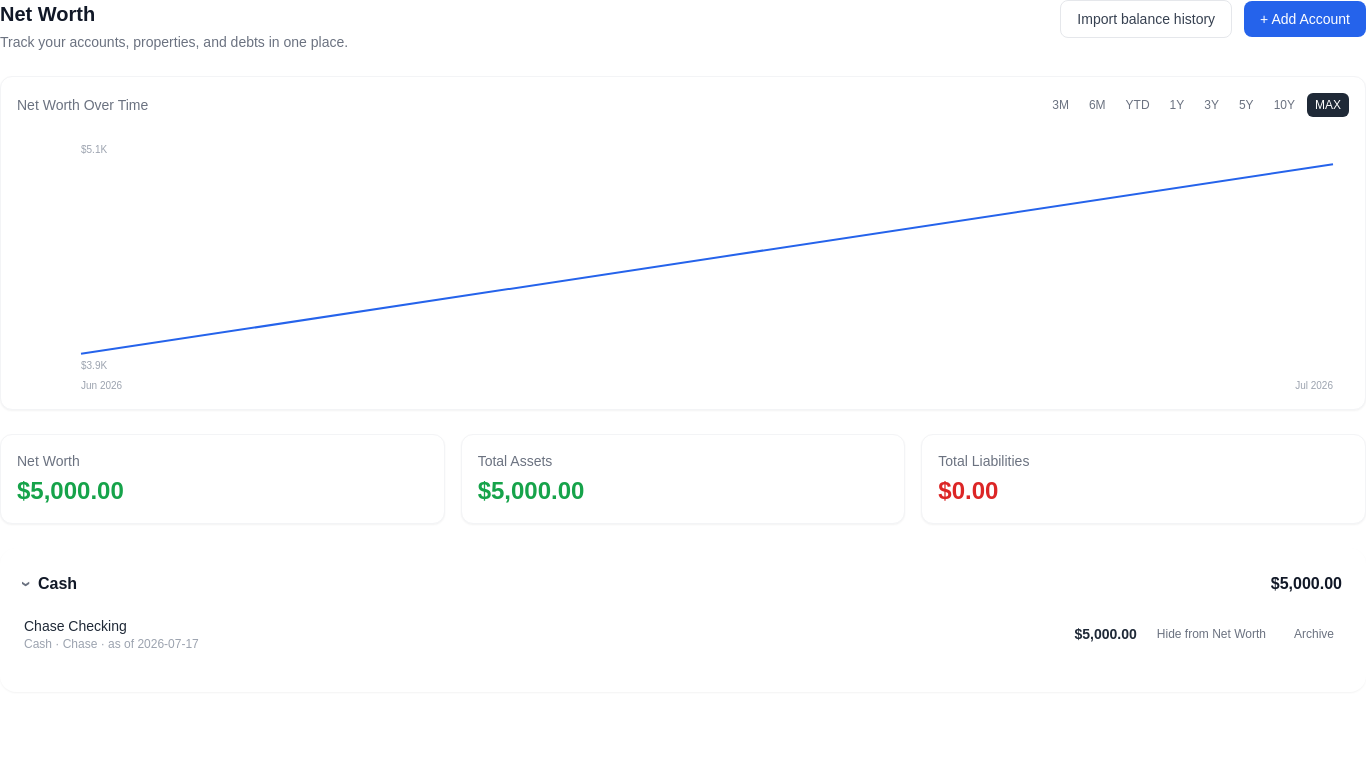
Test case: NetWorthClient — refresh after a balance edit › does not refresh when the save fails
The image size is (1366, 768).
Step 1. Click the text "Chase Checking" → (75, 626), box [24,618,127,634]
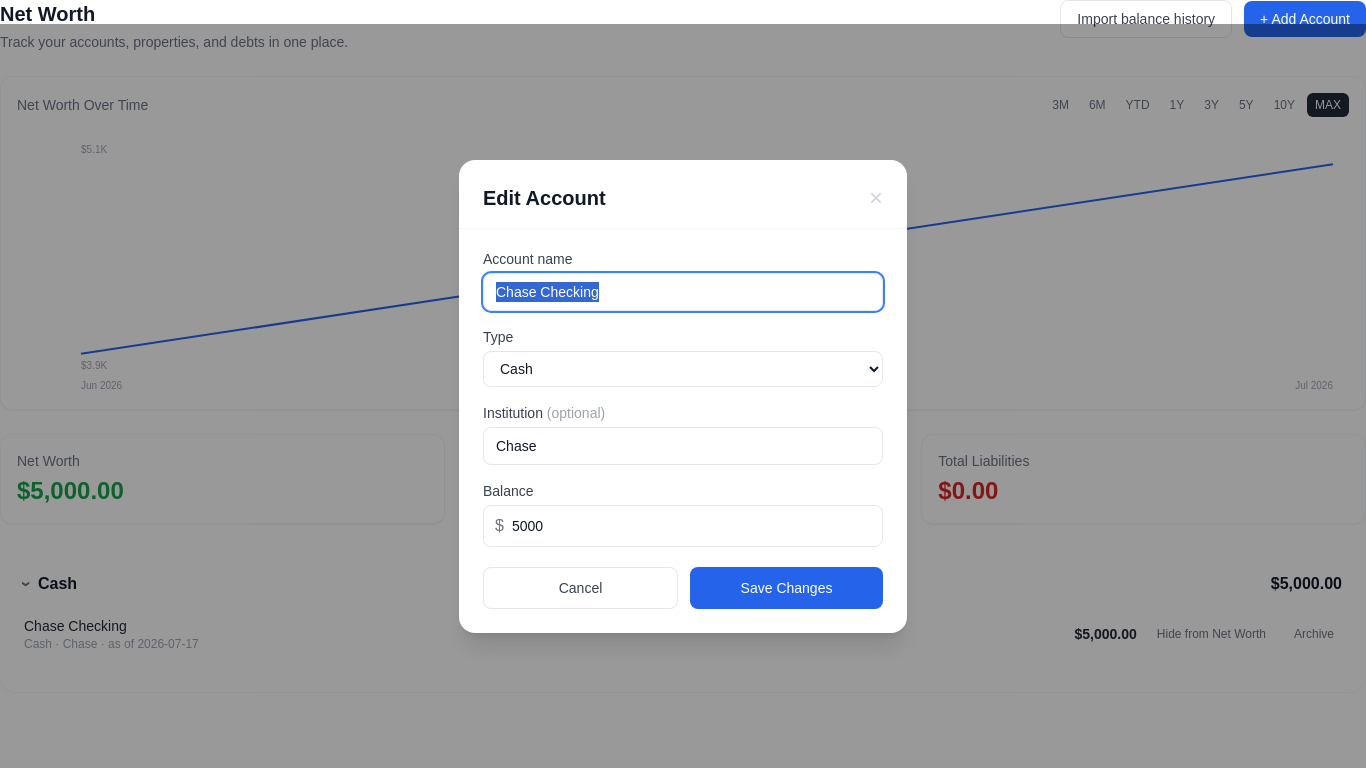
Step 2. Click the button "Save Changes" → (786, 588), box [690,566,883,608]
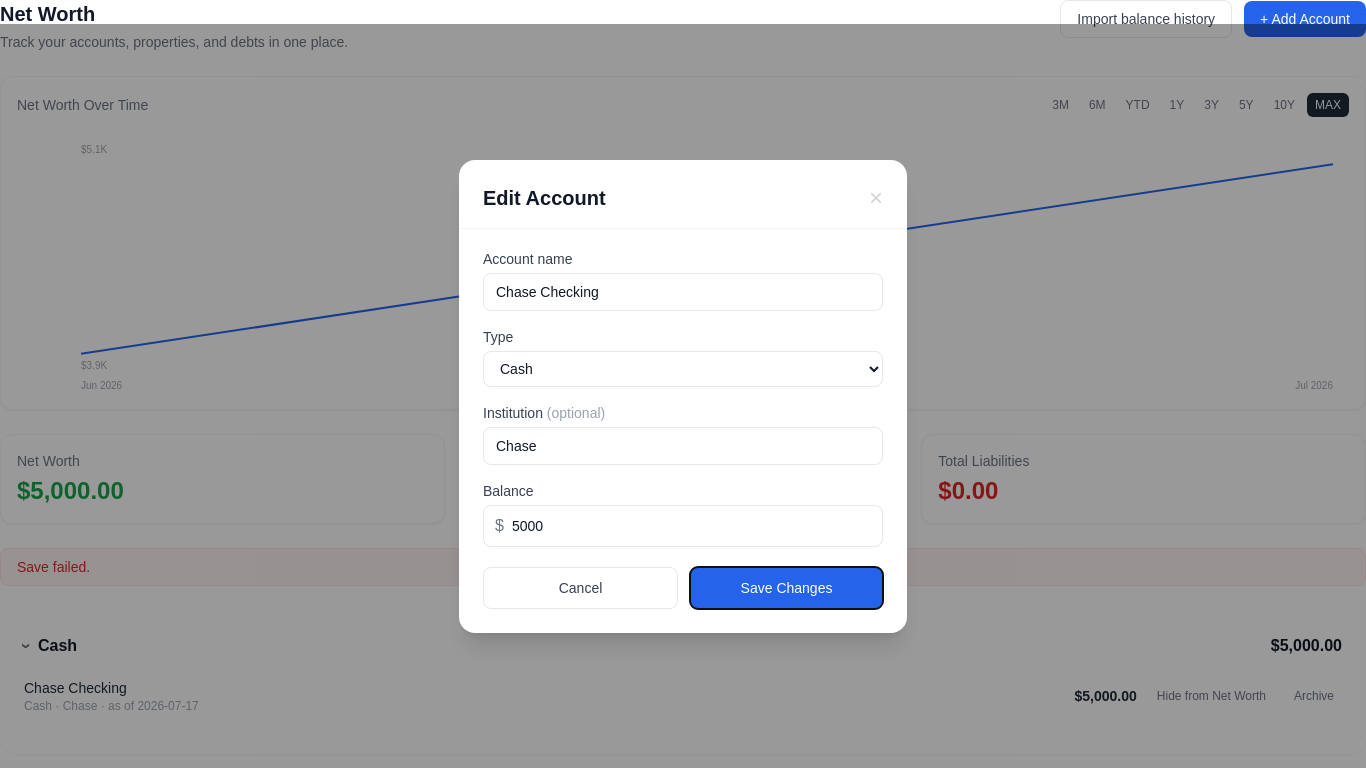
Result: the text "Save failed." is shown at [0,548,1365,586]
